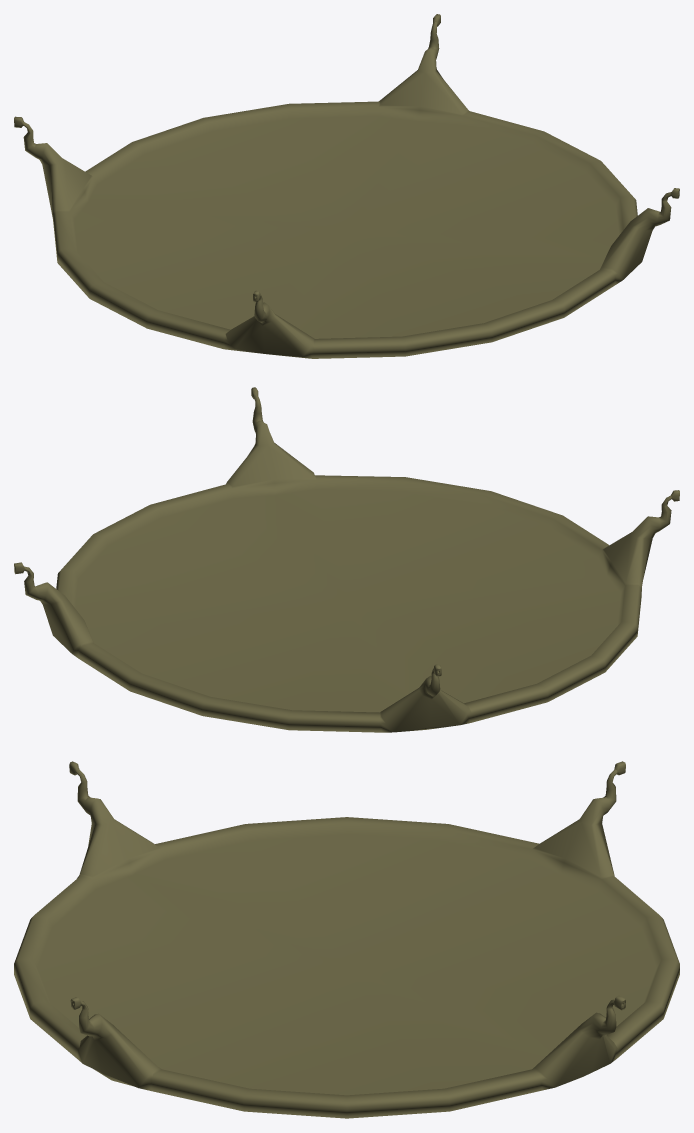
File: sapling_big_pot.fbx
The picture shows the model from 3 angles, top to bottom: view 1: azimuth 30°, elevation 25°; view 2: azimuth 150°, elevation 25°; view 3: azimuth 270°, elevation 25°; orthographic projection. The views are drawn at different scales.
Parts seen in each view (by area): view 1: polySurface8; view 2: polySurface8; view 3: polySurface8.
Part boxes in pixels (x1=…): polySurface8: x1=14, y1=14, x2=679, y2=358; polySurface8: x1=14, y1=387, x2=679, y2=732; polySurface8: x1=14, y1=761, x2=679, y2=1118.
Bounding box in the file's own units: 952 × 152 × 931.
